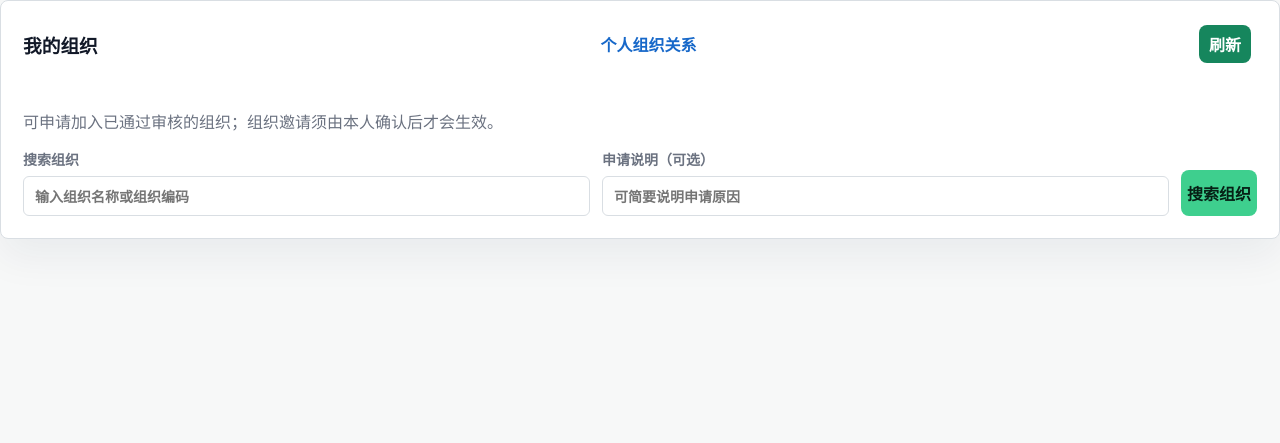
Test: MyOrganizationPage › 搜索组织并提交个人加入申请
This screenshot has width=1280, height=443.
Type "实验" into the search field labelled "搜索组织" at (306, 196), box [23, 176, 590, 216]
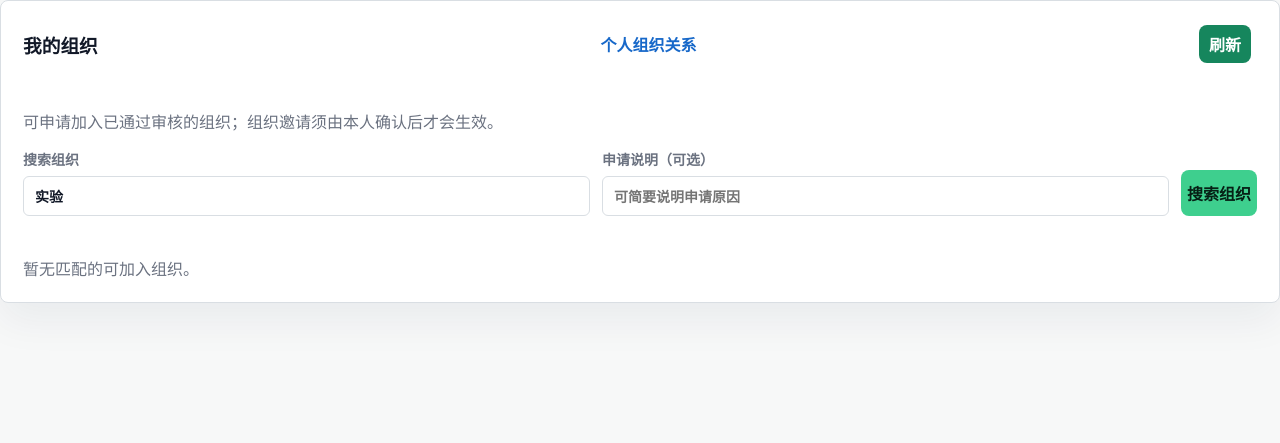
Click the button "搜索组织" at (1219, 193), box [1181, 170, 1257, 216]
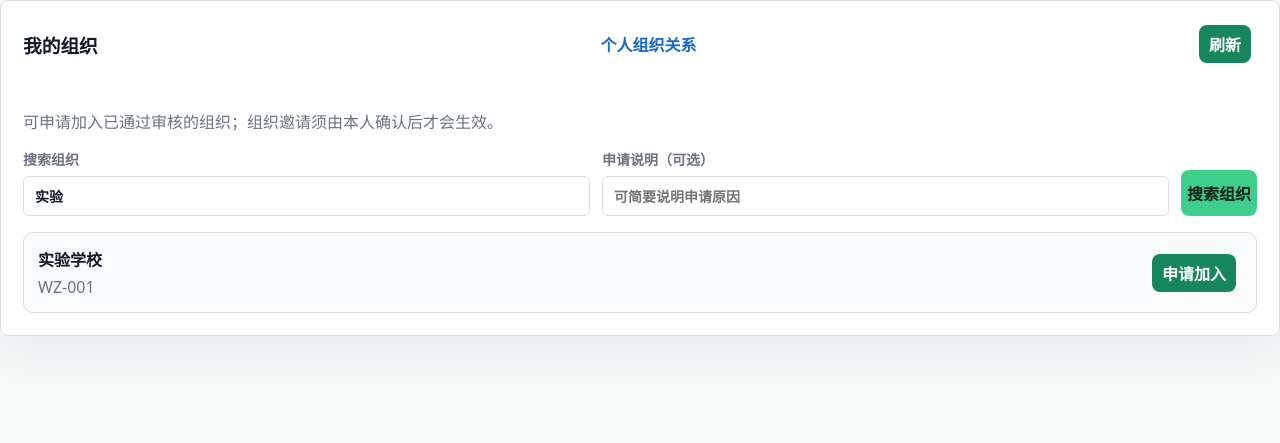
Now the text "实验学校" is shown, box [38, 249, 102, 271]
Click the button "申请加入" at (1194, 272), box [1152, 254, 1236, 292]
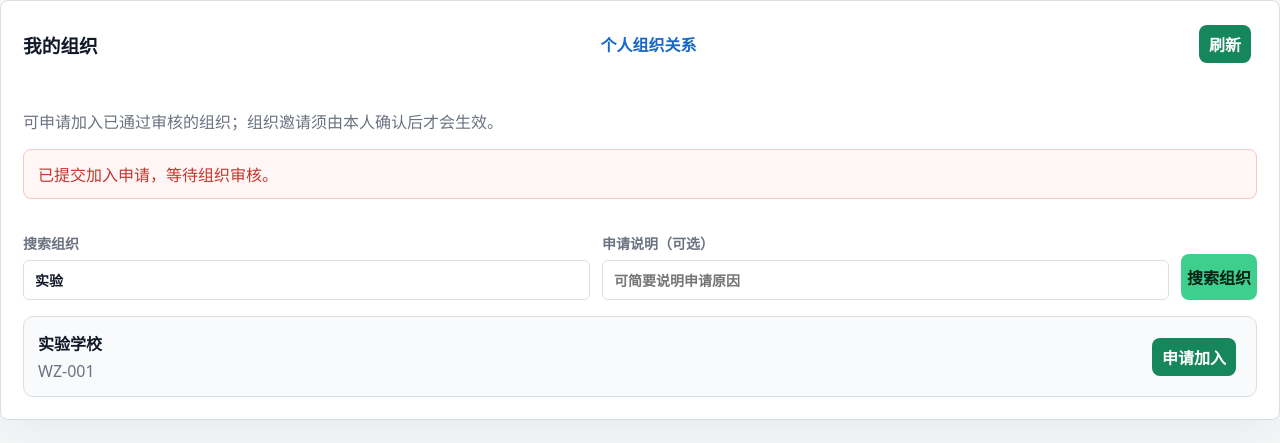
Now the text "已提交" is shown, box [23, 149, 1257, 199]
